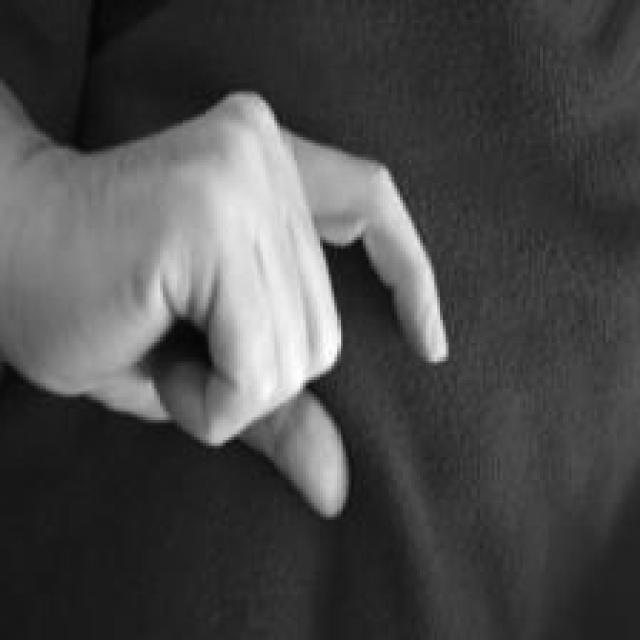C: (0, 82, 453, 526)
